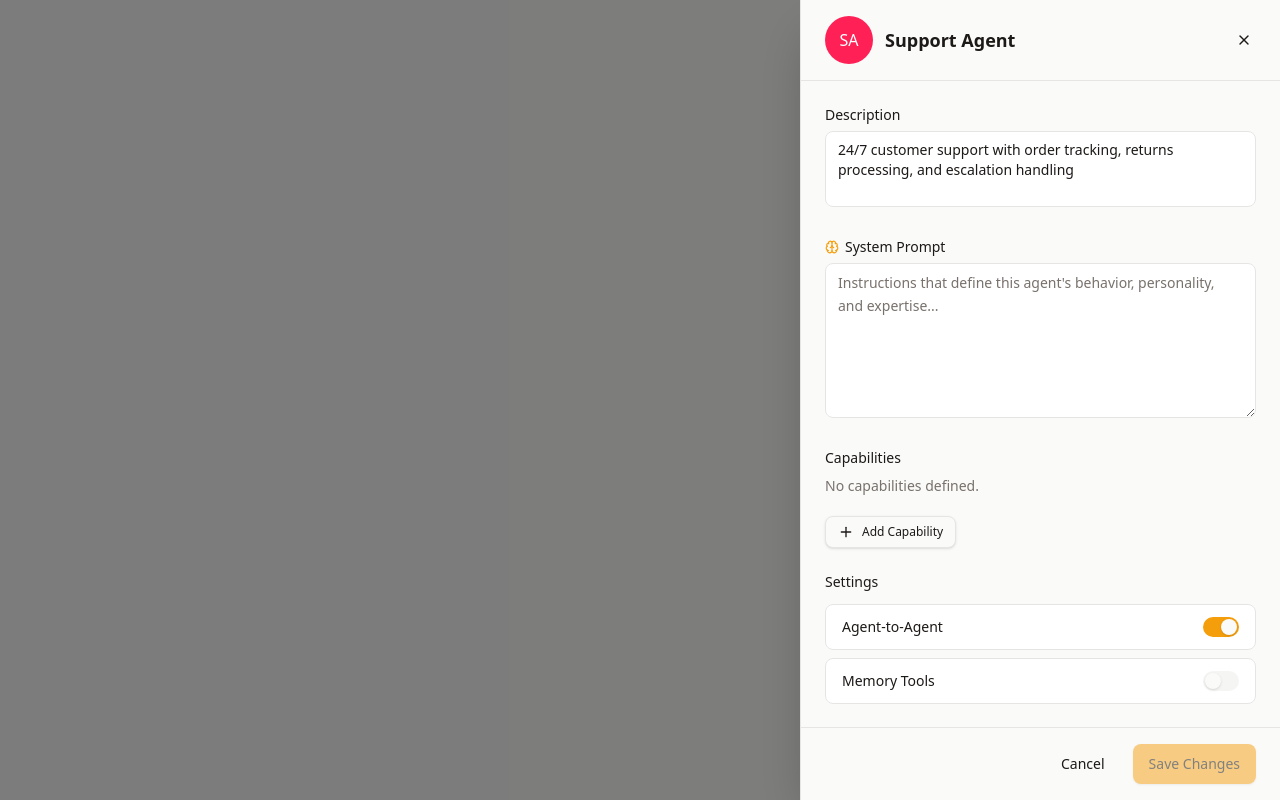
Test: Workforce Components – Coverage Batch 2 › AgentEditorSheet › adding a capability via inline form adds it to the list
Expected: the heading "Capabilities" is shown, [825,448,901,466]
Click the button "Add Capability".
click(891, 532)  # box [825,516,956,548]
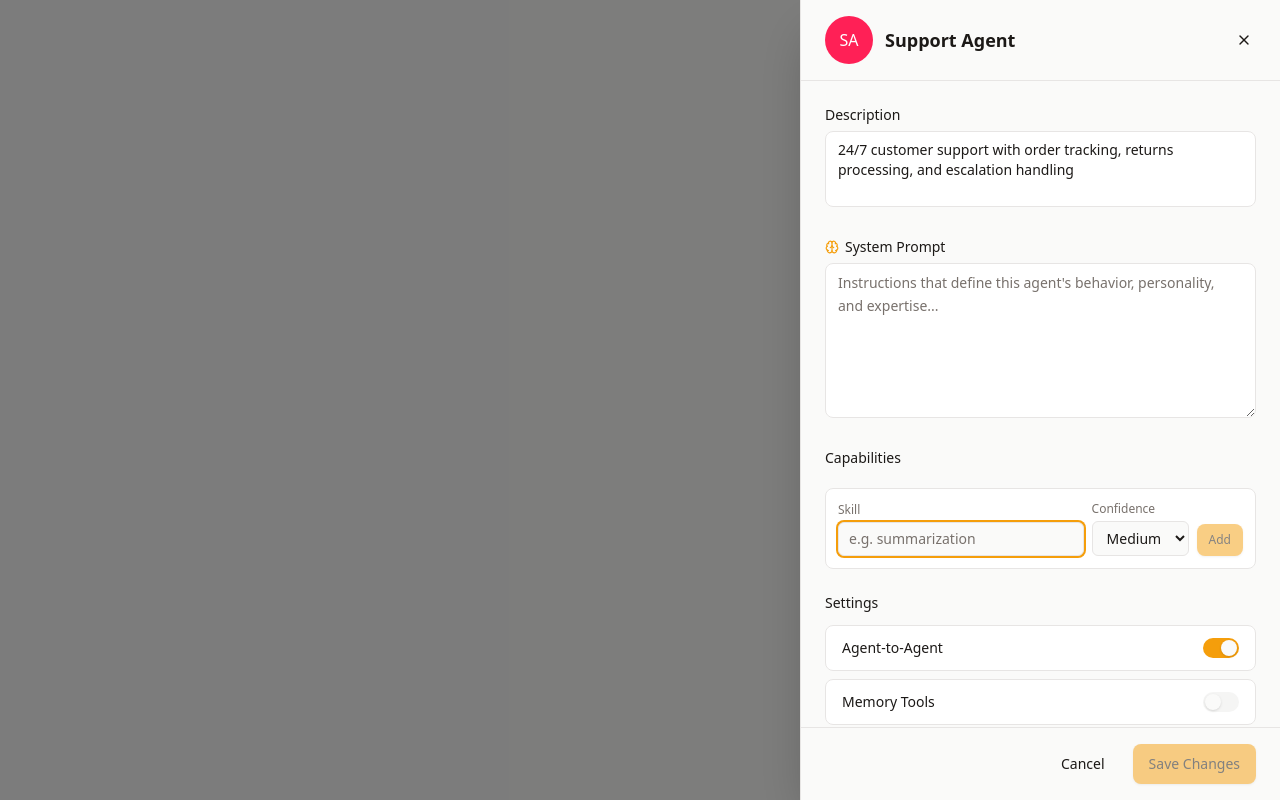
Type "summarization" into the field labelled "Skill".
click(961, 538); type("summarization")  # box [838,522,1084,556]
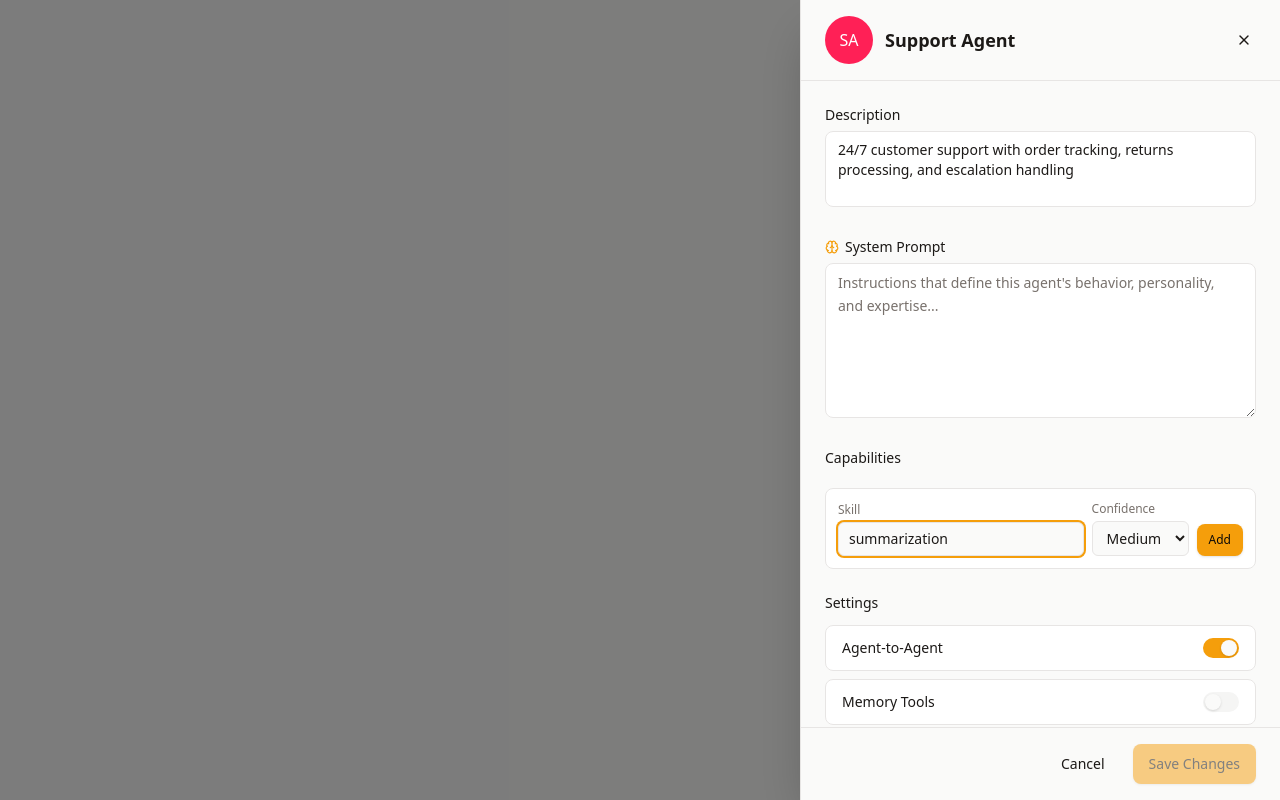
Click the button "Add".
click(1220, 540)  # box [1197,524,1243,556]
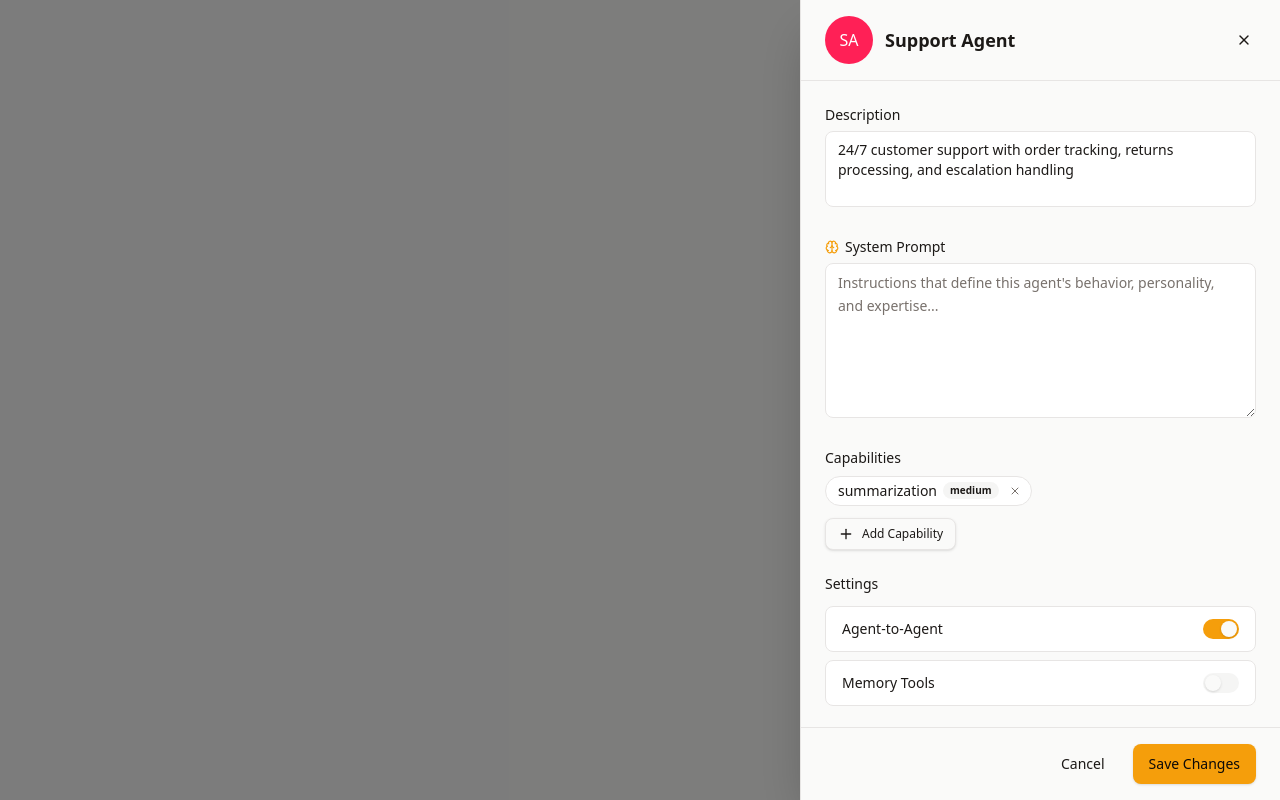
Expected: the text "summarization" is shown, [838,480,937,500]
